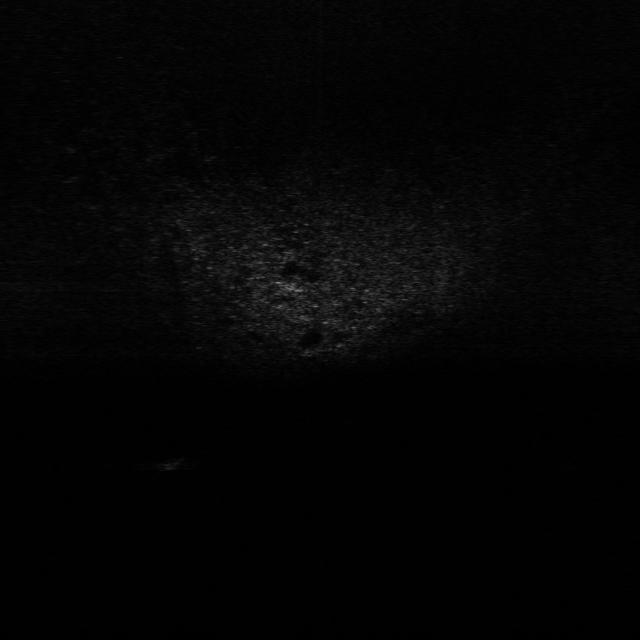cylinder: (154, 450, 184, 471)
